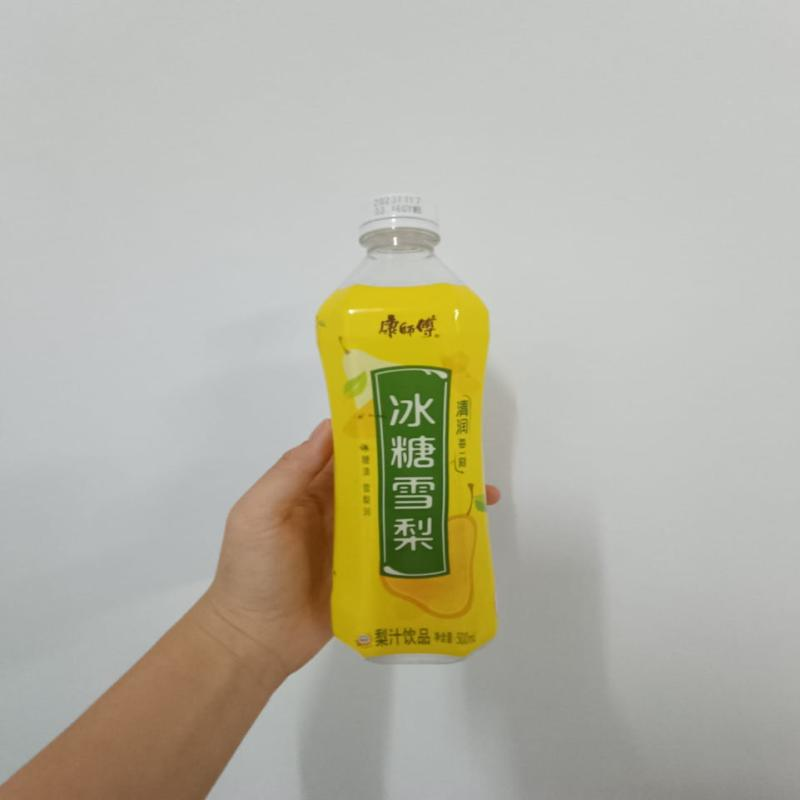botella: (326, 196, 501, 672)
